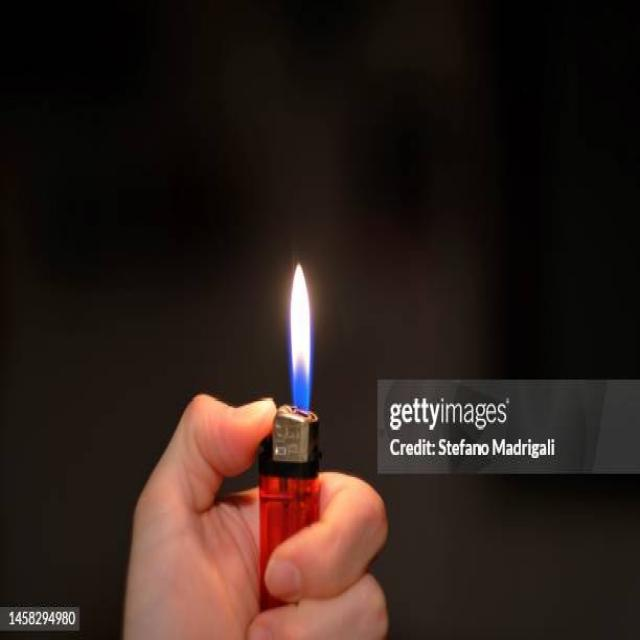fire: (290, 260, 313, 413)
